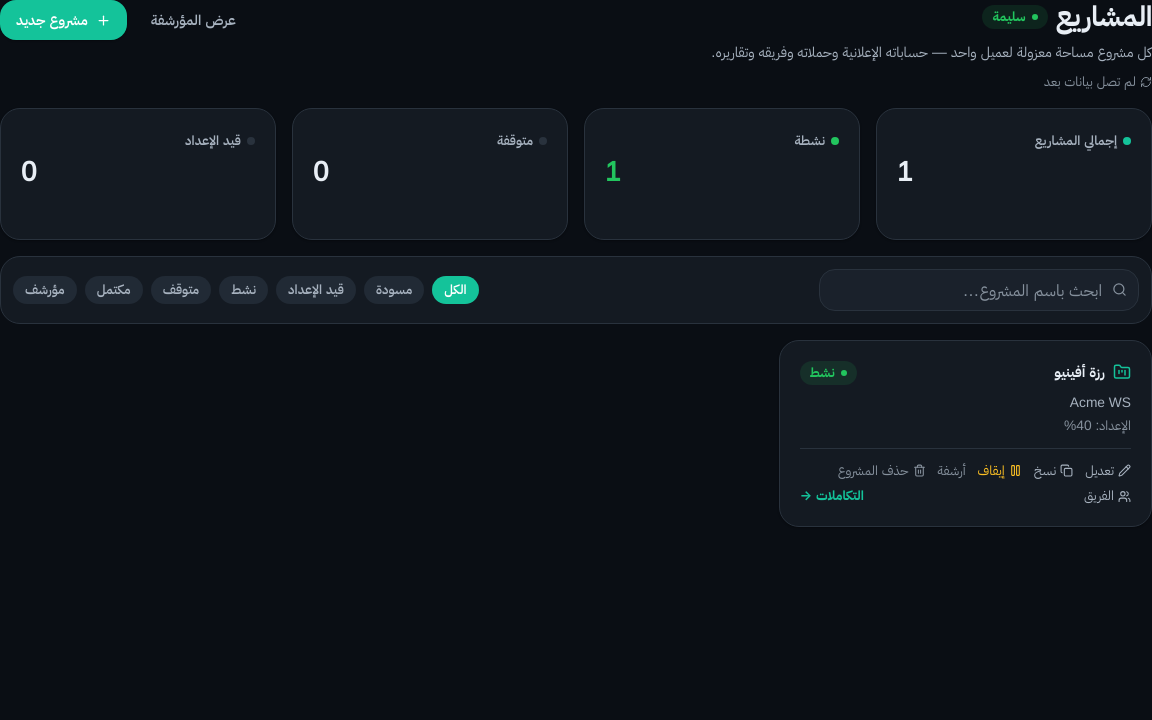
Test case: deleting a project › refuses to arm until the name is typed exactly
Click the button with test id "project-delete-p1": click(882, 471) [838,461,926,480]
(page scrolled)
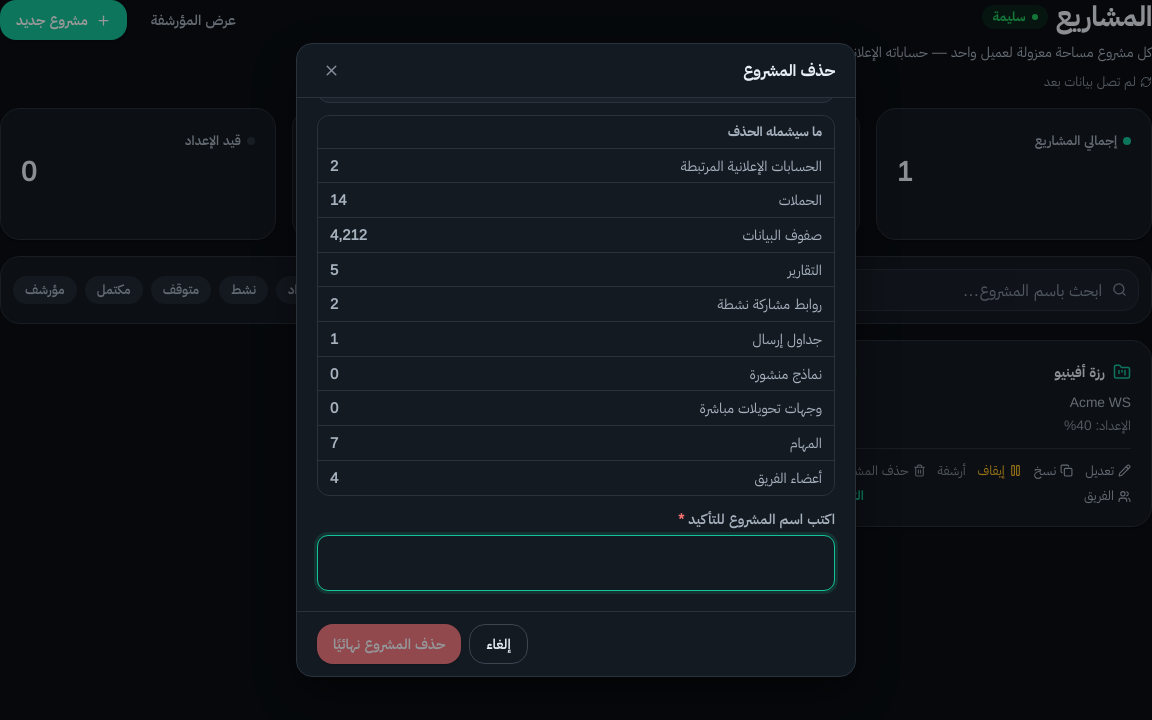
expect the button with test id "project-delete-confirm" is disabled: met, box [317,624,462,664]
In the field with test id "project-delete-name": (576, 563) [317,535,835,591], type "رزة"
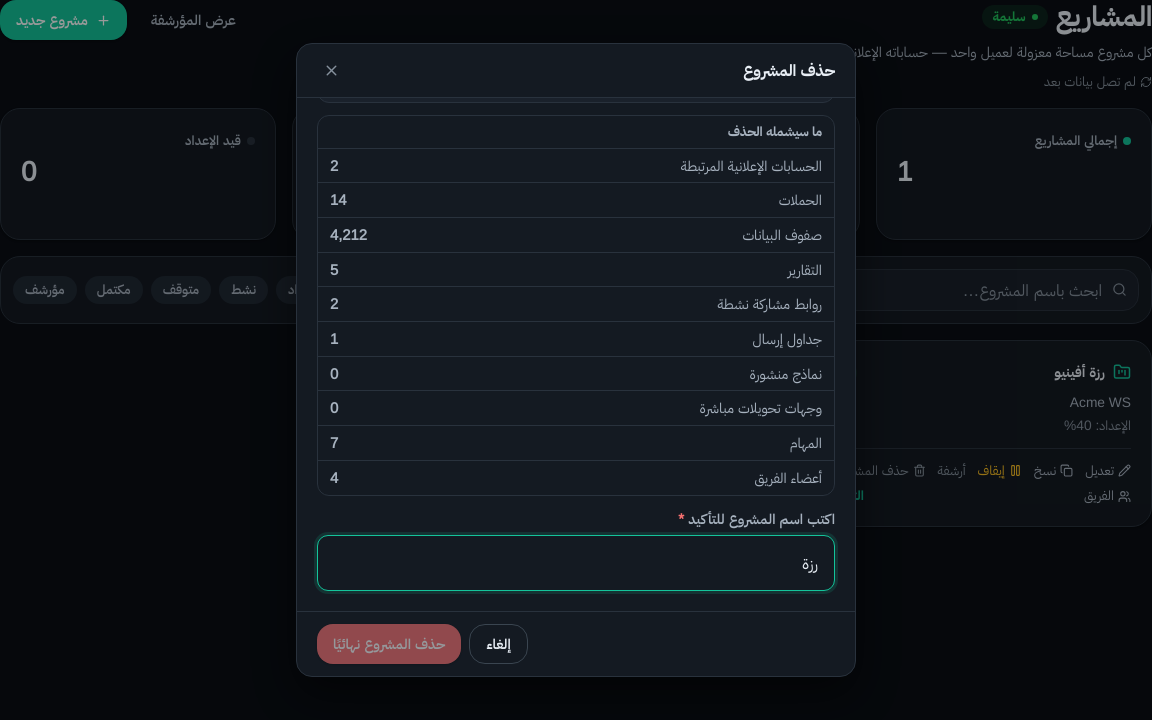
expect the button with test id "project-delete-confirm" is disabled: met, box [317,624,462,664]
Replace the text in the field with test id "project-delete-name" with "رزة أفينيو": (576, 563) [317,535,835,591]
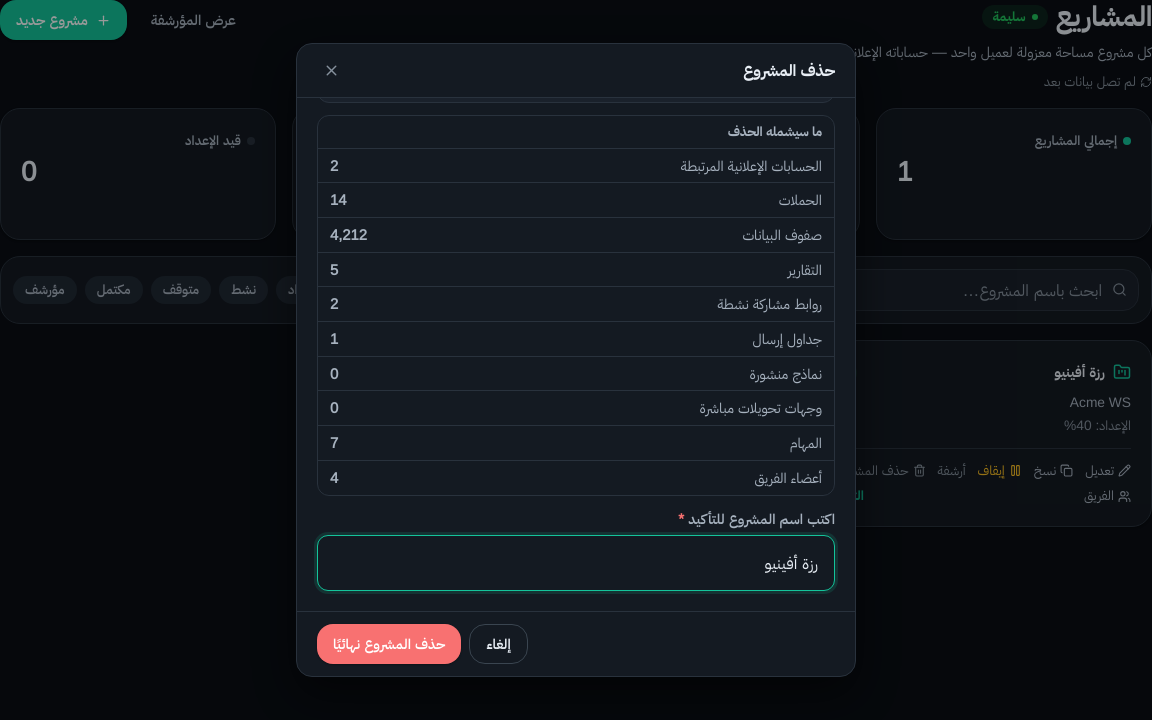
expect the button with test id "project-delete-confirm" is enabled: met, box [317,624,462,664]
